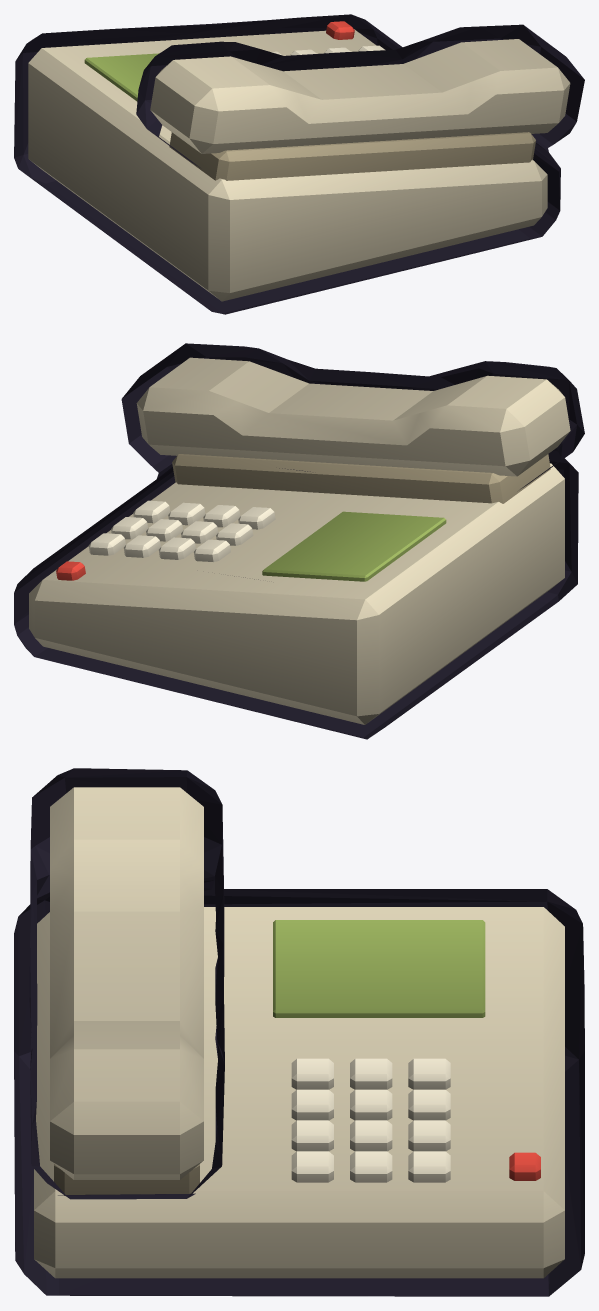
File: Desk_Phone_Outline.fbx
3 views of the same model, one above another, from view 1: azimuth 30°, elevation 25°; view 2: azimuth 150°, elevation 25°; view 3: azimuth 270°, elevation 25° (orthographic). The views are drawn at different scales.
Parts seen in each view (by area): view 1: Desk_Phone; view 2: Desk_Phone; view 3: Desk_Phone.
Boxes of the visible parts, x1,y1,x2,y2 form: Desk_Phone: (14,14,584,314); Desk_Phone: (14,343,584,739); Desk_Phone: (14,768,584,1296).
Size of the model in its own units: 1.08 by 0.5959 by 0.968.
Materials: 1 (1 with a texture image).
